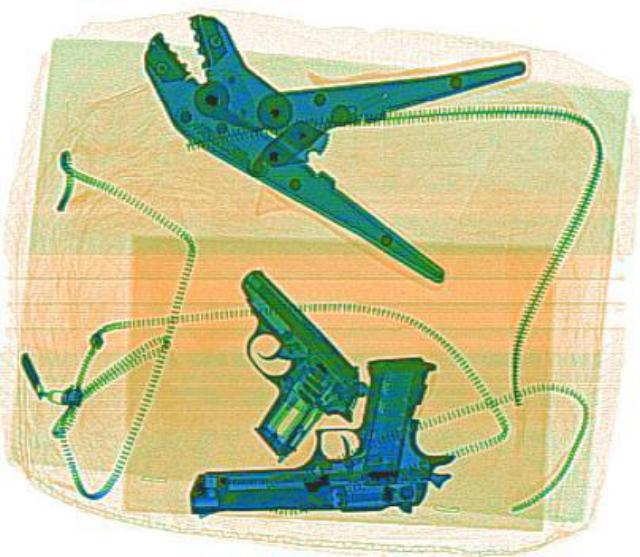Gun: (153, 265, 383, 456), (185, 355, 452, 513)
